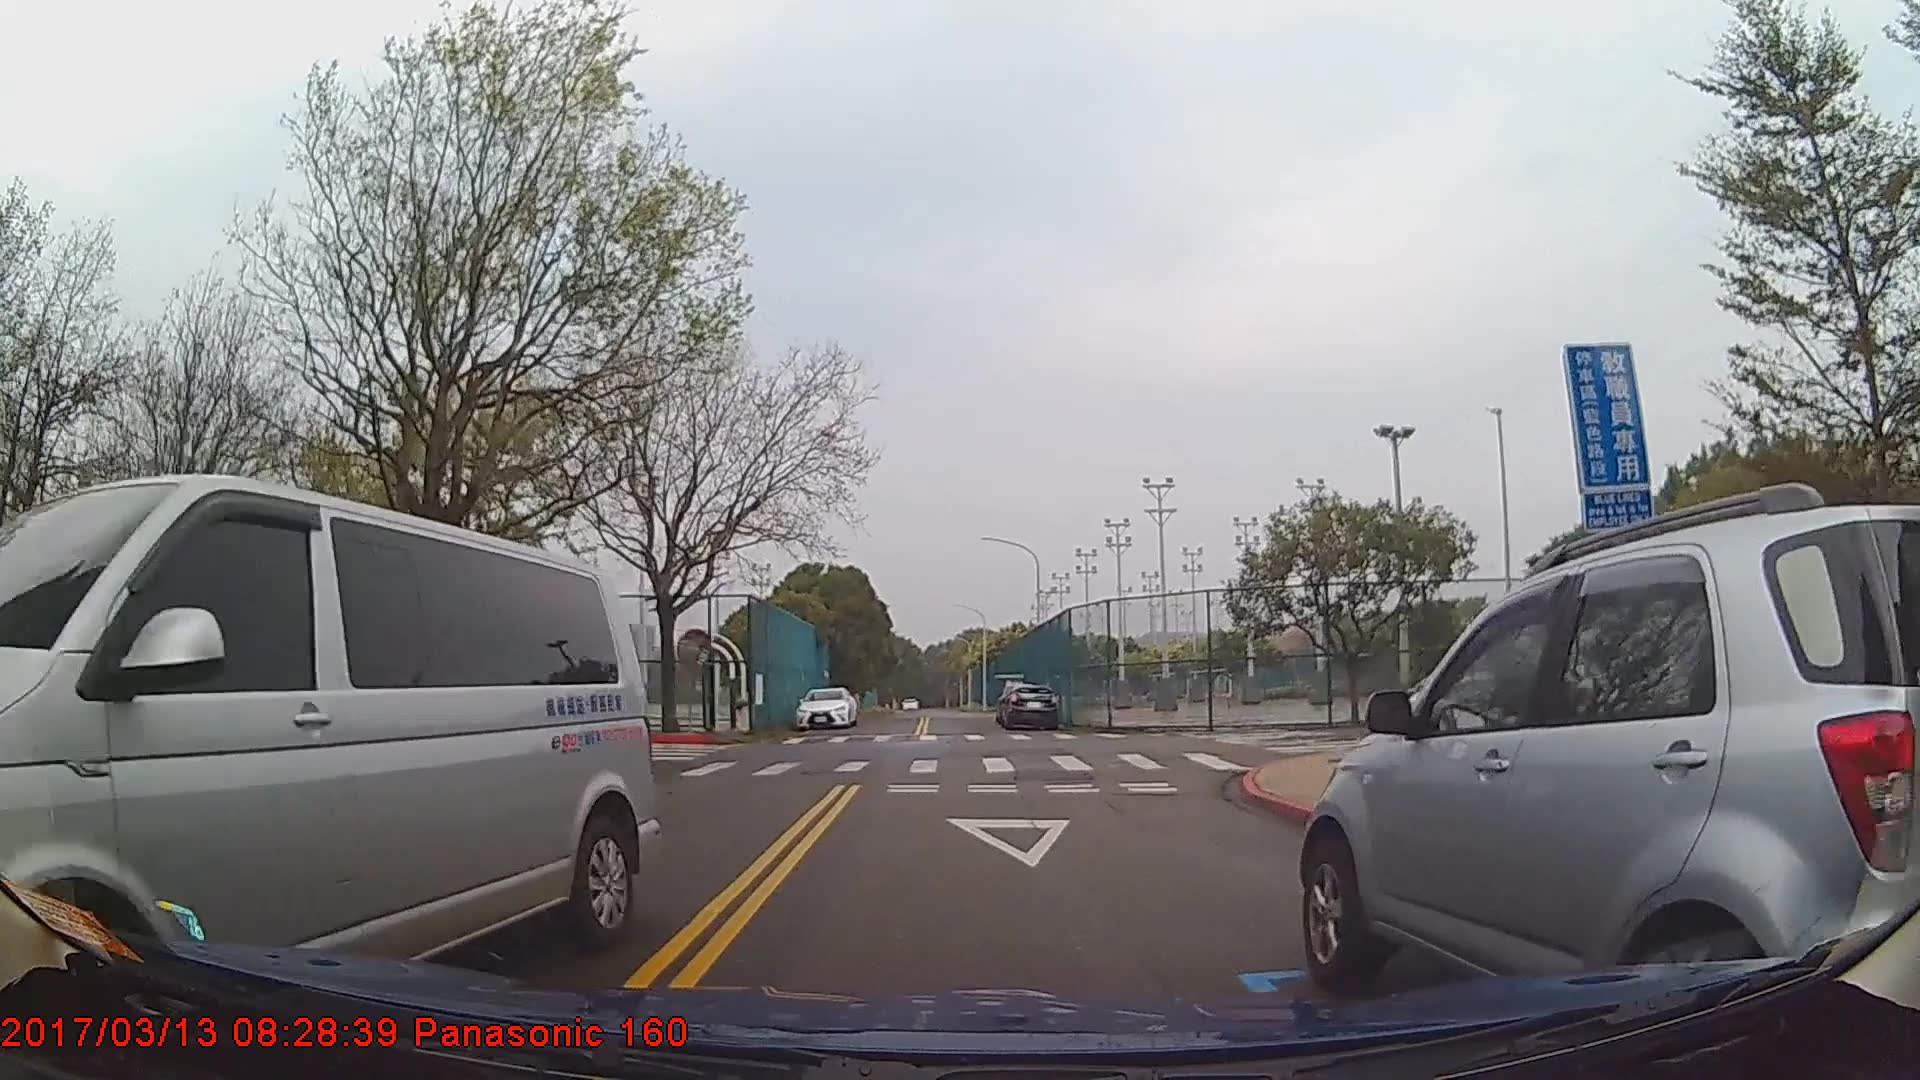vehicle: (0, 467, 655, 1007), (1298, 502, 1920, 1033), (794, 683, 858, 729), (1002, 680, 1062, 731)
